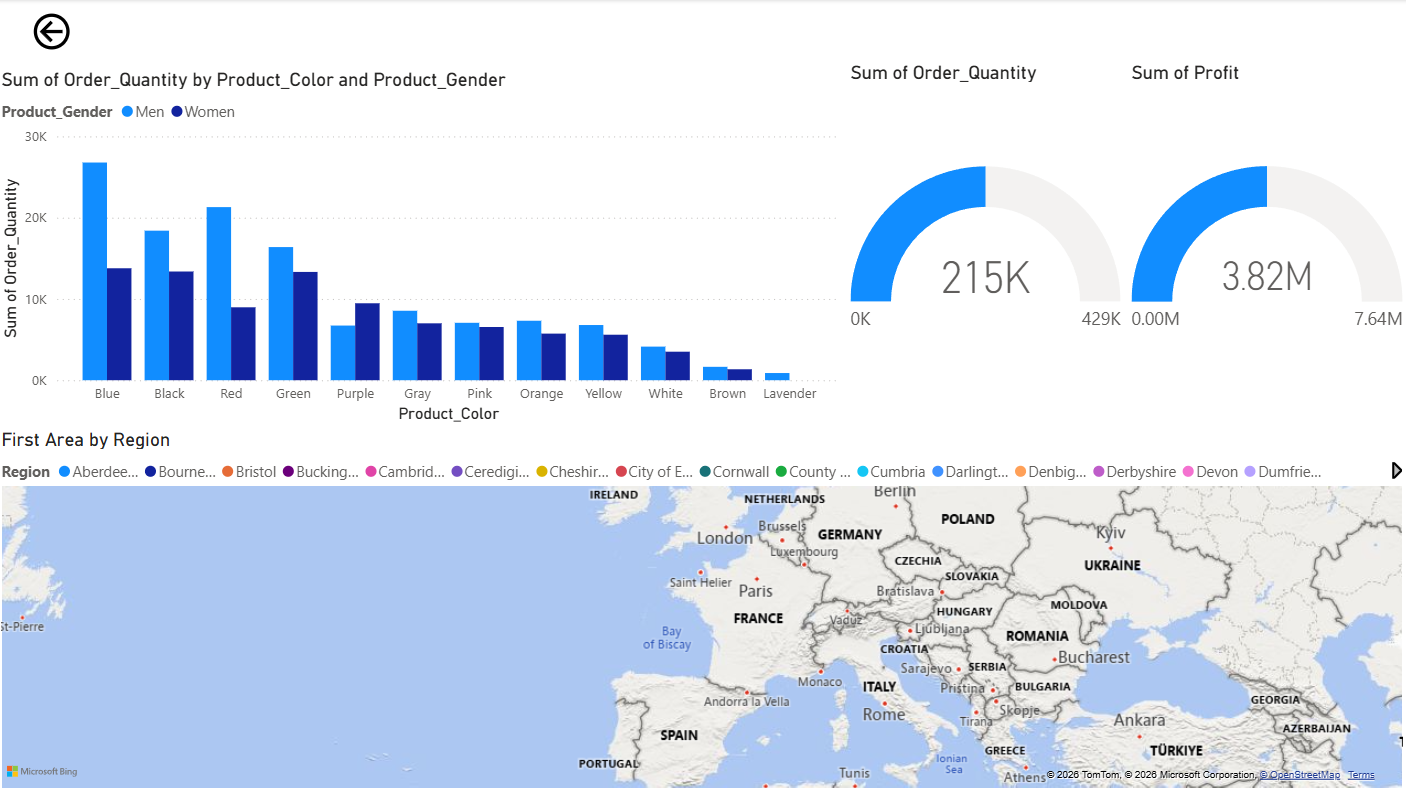

The page's visual inventory and layout, read from the dashboard file:
{"tool":"powerbi","page":{"name":"Dash 3","canvas":[1280,720],"ordinal":3},"visuals":[{"type":"filledMap","fields":{"Series":["Retailers.Region"]},"box":[0,389,1280.4,331],"z":0},{"type":"clusteredColumnChart","fields":{"Y":["Sum(Orders. Order_Quantity )"],"Category":["Products.Product_Color"],"Series":["Products.Product_Gender"]},"box":[0,62.6,769.9,326.4],"z":1000},{"type":"gauge","fields":{"Y":["Sum(Orders. Order_Quantity )"]},"box":[769.9,56.2,254.8,325.5],"z":2000},{"type":"gauge","fields":{"Y":["Sum(Orders.Profit)"]},"box":[1024.7,56.2,255.7,325.5],"z":3000},{"type":"actionButton","box":[0,0,100.2,55.9],"z":4000}]}

Visuals, with their boxes in screenshot pixels (x1, y1, x2, y2), scaled from the page's 1280x720 canvas onto the 1406x790 screenshot:
filledMap - Retailers.Region: bbox(0, 427, 1405, 789)
clusteredColumnChart - Sum(Orders. Order_Quantity ) x Products.Product_Color: bbox(0, 69, 846, 427)
gauge - Sum(Orders. Order_Quantity ): bbox(846, 62, 1126, 419)
gauge - Sum(Orders.Profit): bbox(1126, 62, 1405, 419)
actionButton: bbox(0, 0, 110, 61)
